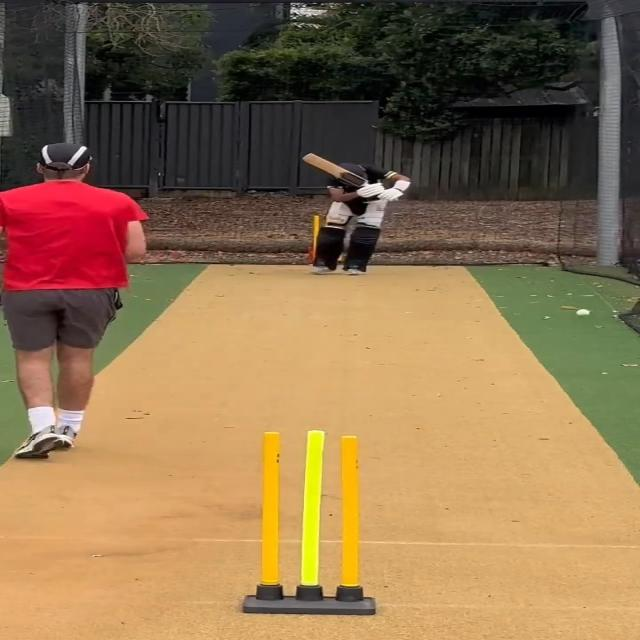stump: (241, 430, 379, 614)
